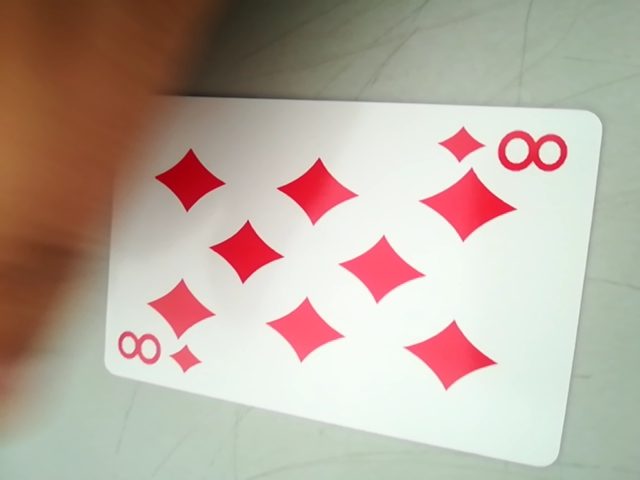fk 8: (432, 121, 570, 177), (108, 325, 201, 380)
